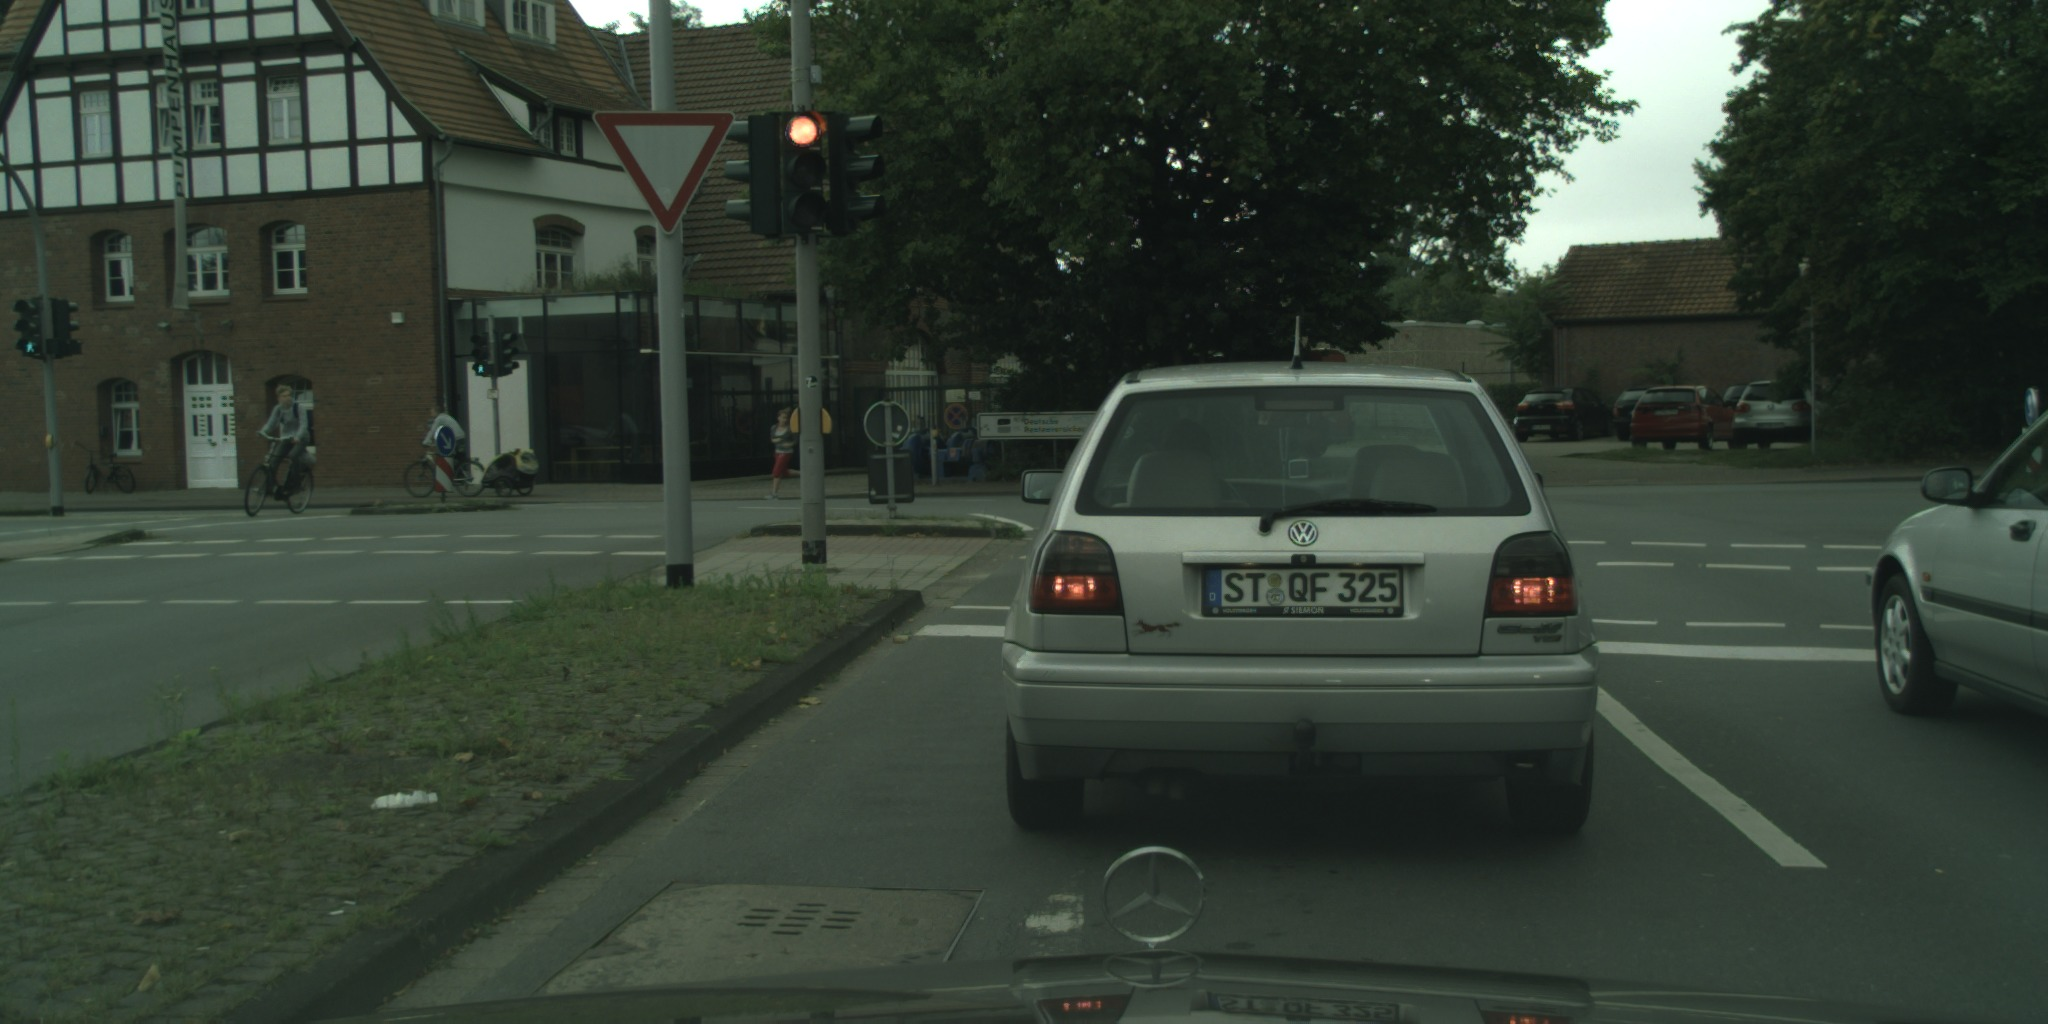bicycle: (243, 434, 316, 517), (403, 440, 488, 498), (72, 440, 136, 497)
car: (999, 361, 1597, 833), (1865, 412, 2047, 720), (1728, 379, 1838, 451), (1630, 384, 1743, 451), (1511, 384, 1614, 448), (1611, 388, 1652, 442), (1721, 383, 1764, 420)
person: (762, 407, 804, 503)
rider: (258, 384, 311, 498), (420, 401, 467, 470)
